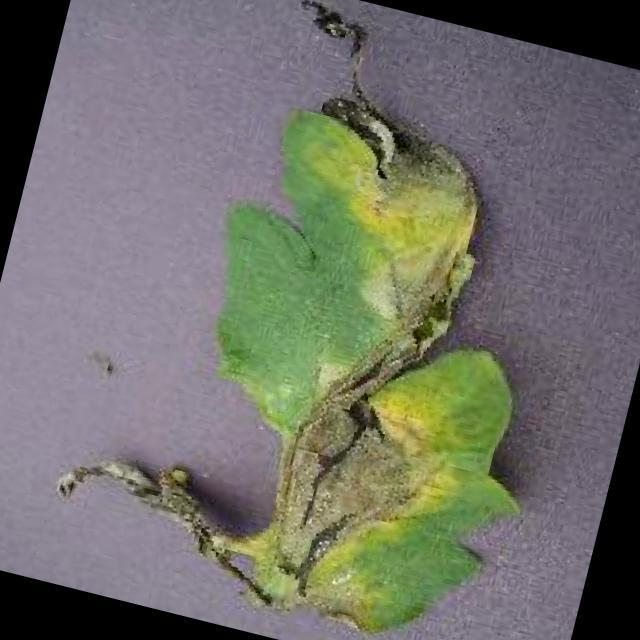Tomato late blight leaf: (43, 0, 634, 640)
